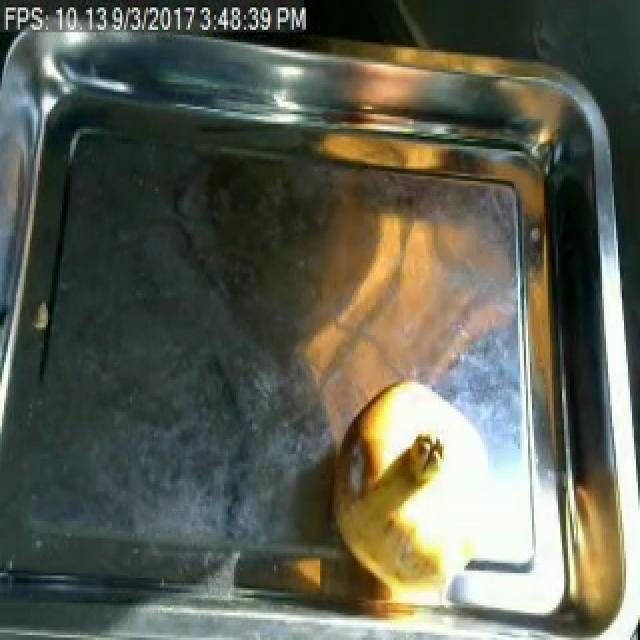fruit: (318, 365, 500, 600)
